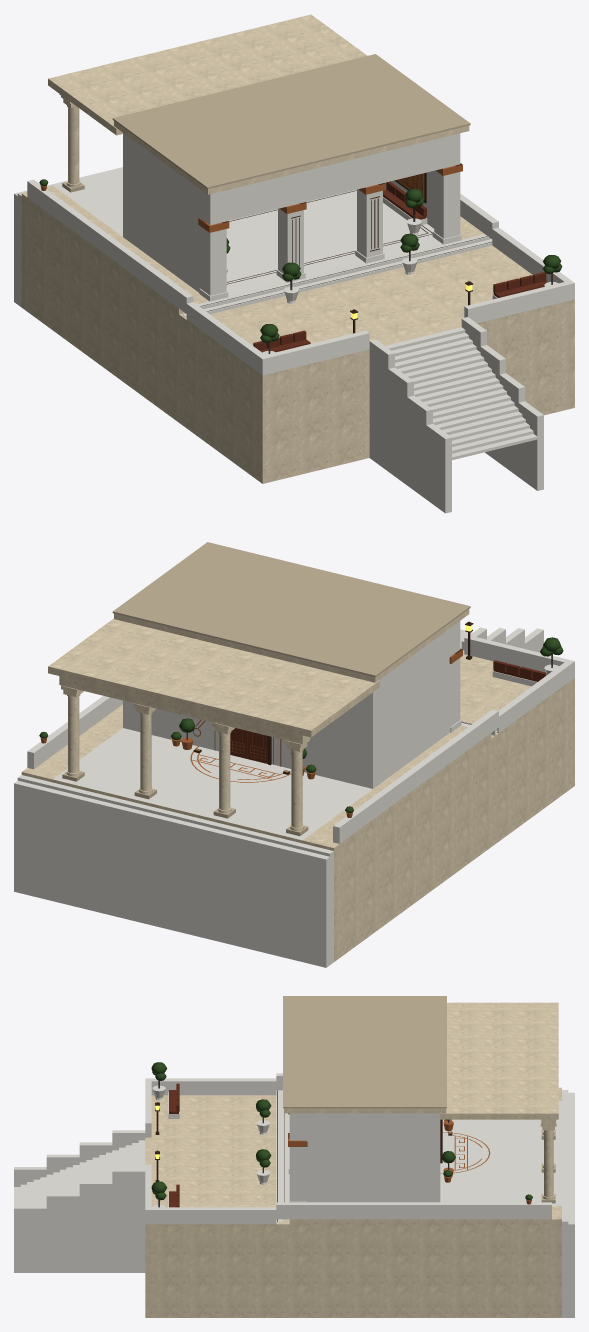
The model's file is belvedere.glb.
3 renders of one model, top to bottom at view 1: azimuth 30°, elevation 25°; view 2: azimuth 150°, elevation 25°; view 3: azimuth 270°, elevation 25°, orthographic. The views are drawn at different scales.
Parts seen in each view (by area): view 1: belvedere; view 2: belvedere; view 3: belvedere.
Boxes of the visible parts, bbox=[...] form: belvedere: bbox=[14, 14, 574, 513]; belvedere: bbox=[14, 542, 574, 967]; belvedere: bbox=[14, 996, 574, 1317].
Size of the model in its own units: 19.09 by 13.49 by 34.2.
Materials: 12 (2 with a texture image).
